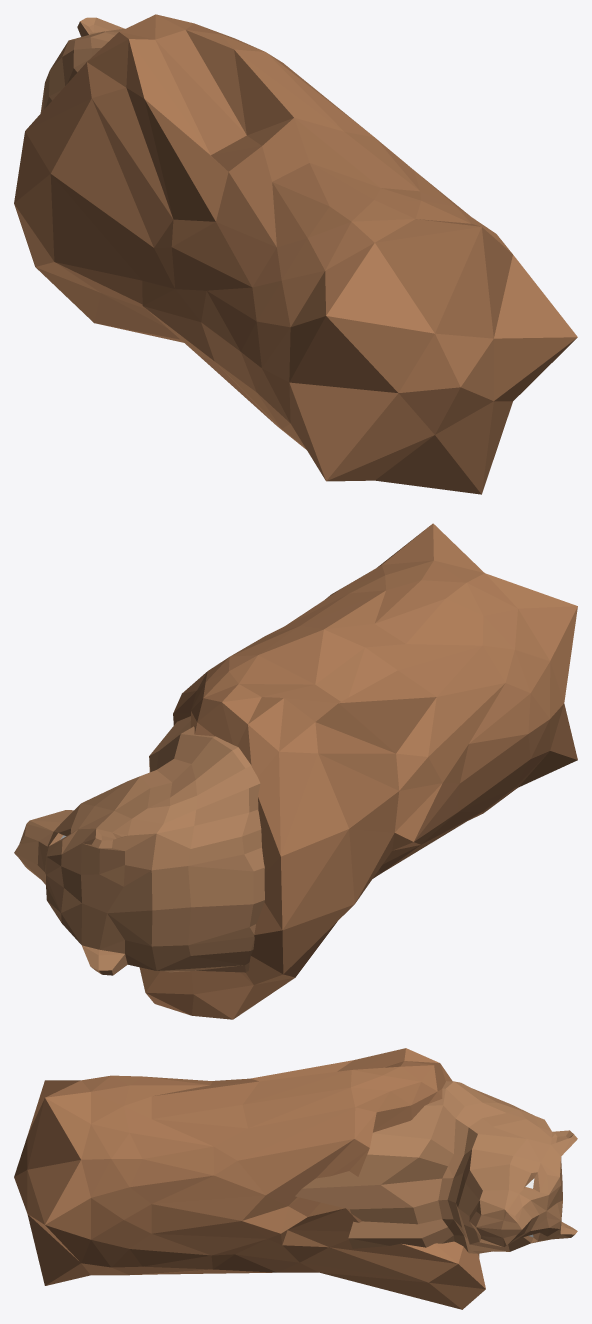
Rendered from Bear Totem.fbx.
3 views of the same model, one above another, from view 1: azimuth 30°, elevation 25°; view 2: azimuth 150°, elevation 25°; view 3: azimuth 270°, elevation 25° (orthographic). The views are drawn at different scales.
Visible parts, largest first — view 1: Icosphere.005; view 2: Icosphere.005; view 3: Icosphere.005.
Boxes of the visible parts, x1=… form: Icosphere.005: x1=14, y1=14, x2=577, y2=494; Icosphere.005: x1=14, y1=523, x2=577, y2=1019; Icosphere.005: x1=14, y1=1048, x2=577, y2=1309.
Bounding box in the file's own units: 1109 × 454 × 501.
Materials: 2 (1 with a texture image).
